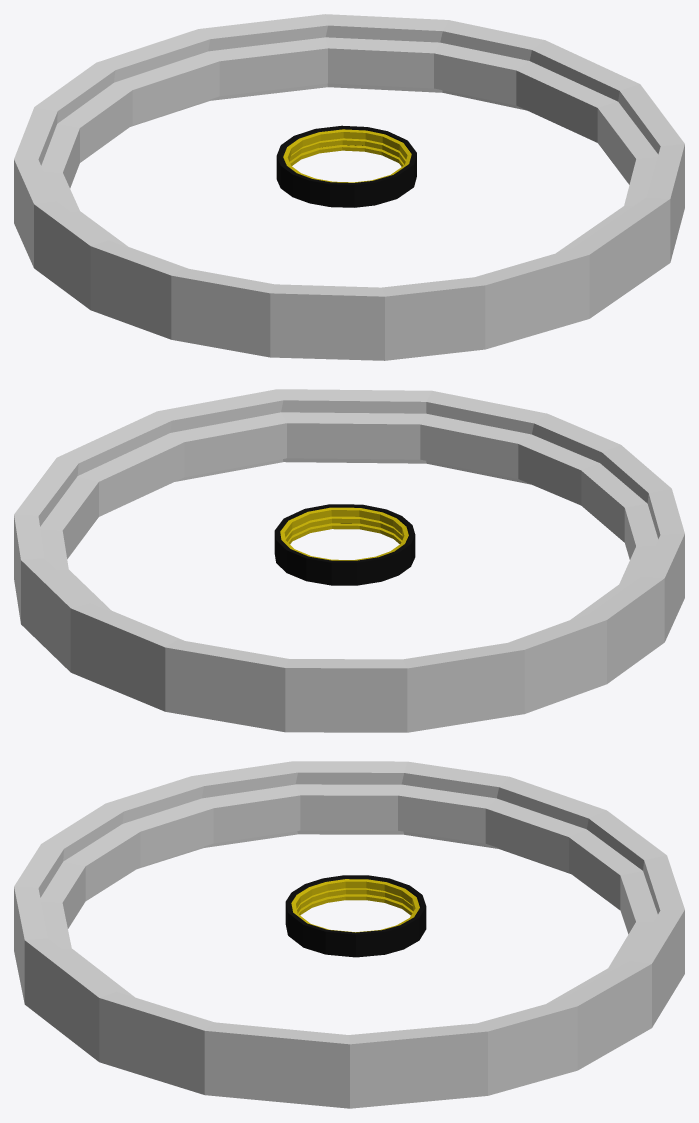
The picture shows the model from 3 angles, top to bottom: view 1: azimuth 30°, elevation 25°; view 2: azimuth 150°, elevation 25°; view 3: azimuth 270°, elevation 25°; orthographic projection.
Visible parts, largest first — view 1: Plane.002, Plane.001; view 2: Plane.002, Plane.001; view 3: Plane.002, Plane.001.
Part boxes in pixels (x1=…): Plane.002: x1=14, y1=14, x2=684, y2=360; Plane.001: x1=276, y1=125, x2=416, y2=207; Plane.002: x1=14, y1=389, x2=684, y2=732; Plane.001: x1=274, y1=504, x2=415, y2=585; Plane.002: x1=14, y1=761, x2=684, y2=1108; Plane.001: x1=285, y1=875, x2=426, y2=957.
Size of the model in its own units: 119 by 12.6 by 119.
